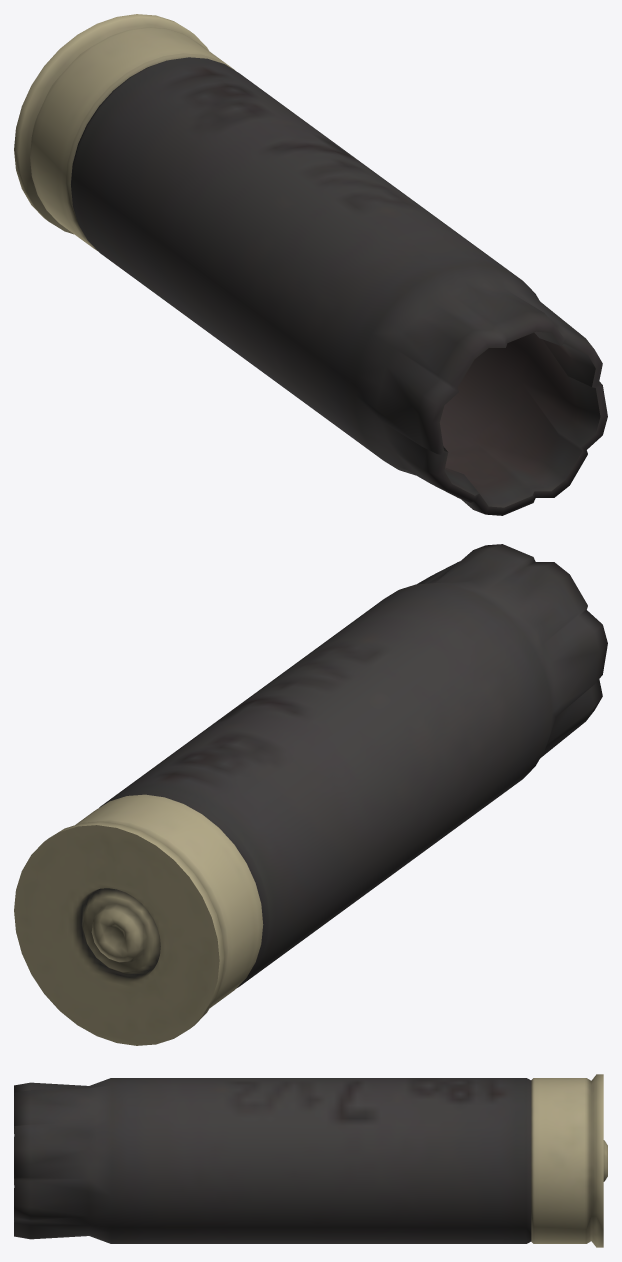
The model's file is nova_casing.glb.
The picture shows the model from 3 angles, top to bottom: view 1: azimuth 30°, elevation 25°; view 2: azimuth 150°, elevation 25°; view 3: azimuth 270°, elevation 25°; orthographic projection. The views are drawn at different scales.
Visible parts, largest first — view 1: weapons/models/shared/shells/shotgun/nova_casing.vmdl_c.high; view 2: weapons/models/shared/shells/shotgun/nova_casing.vmdl_c.high; view 3: weapons/models/shared/shells/shotgun/nova_casing.vmdl_c.high.
Boxes of the visible parts, x1,y1,x2,y2 form: weapons/models/shared/shells/shotgun/nova_casing.vmdl_c.high: [14, 14, 607, 515]; weapons/models/shared/shells/shotgun/nova_casing.vmdl_c.high: [14, 544, 607, 1045]; weapons/models/shared/shells/shotgun/nova_casing.vmdl_c.high: [14, 1074, 607, 1247].
Size of the model in its own units: 0.0177 by 0.0177 by 0.0606.
Materials: 1 (1 with a texture image).
